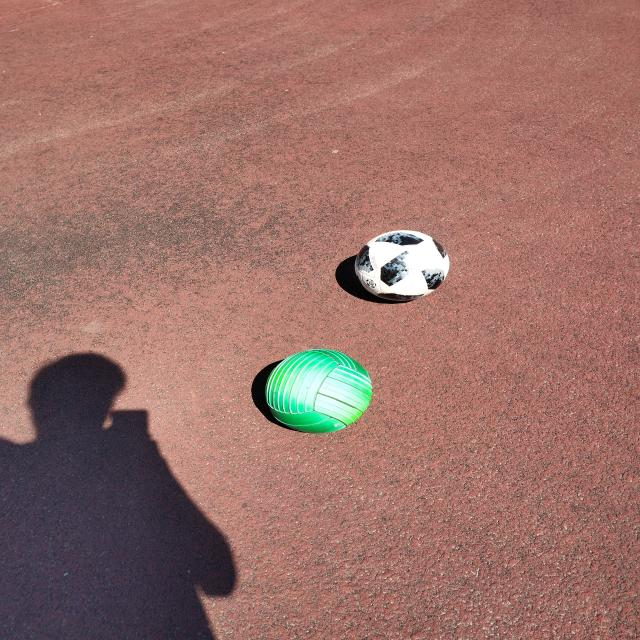nozna: (354, 230, 450, 302)
zielona: (264, 349, 373, 433)
